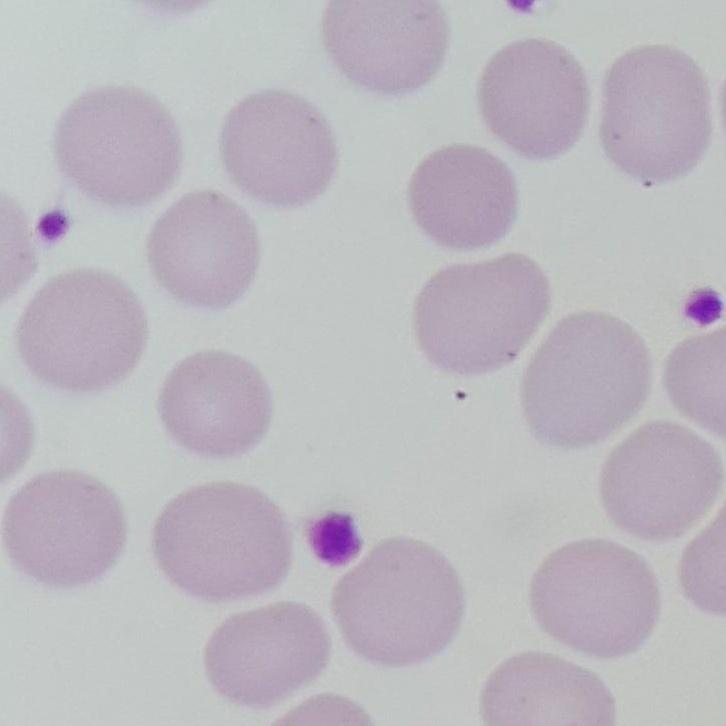Uninfected: (524, 307, 649, 451), (414, 250, 550, 376), (154, 482, 295, 601), (334, 536, 467, 661), (16, 276, 149, 392), (53, 85, 179, 207), (529, 540, 658, 659), (4, 467, 126, 588), (601, 45, 711, 179), (600, 417, 717, 539), (221, 89, 339, 208), (146, 187, 257, 308), (203, 602, 330, 704), (477, 40, 589, 155), (317, 0, 447, 95), (406, 142, 517, 250), (160, 349, 270, 457), (480, 650, 617, 726)
